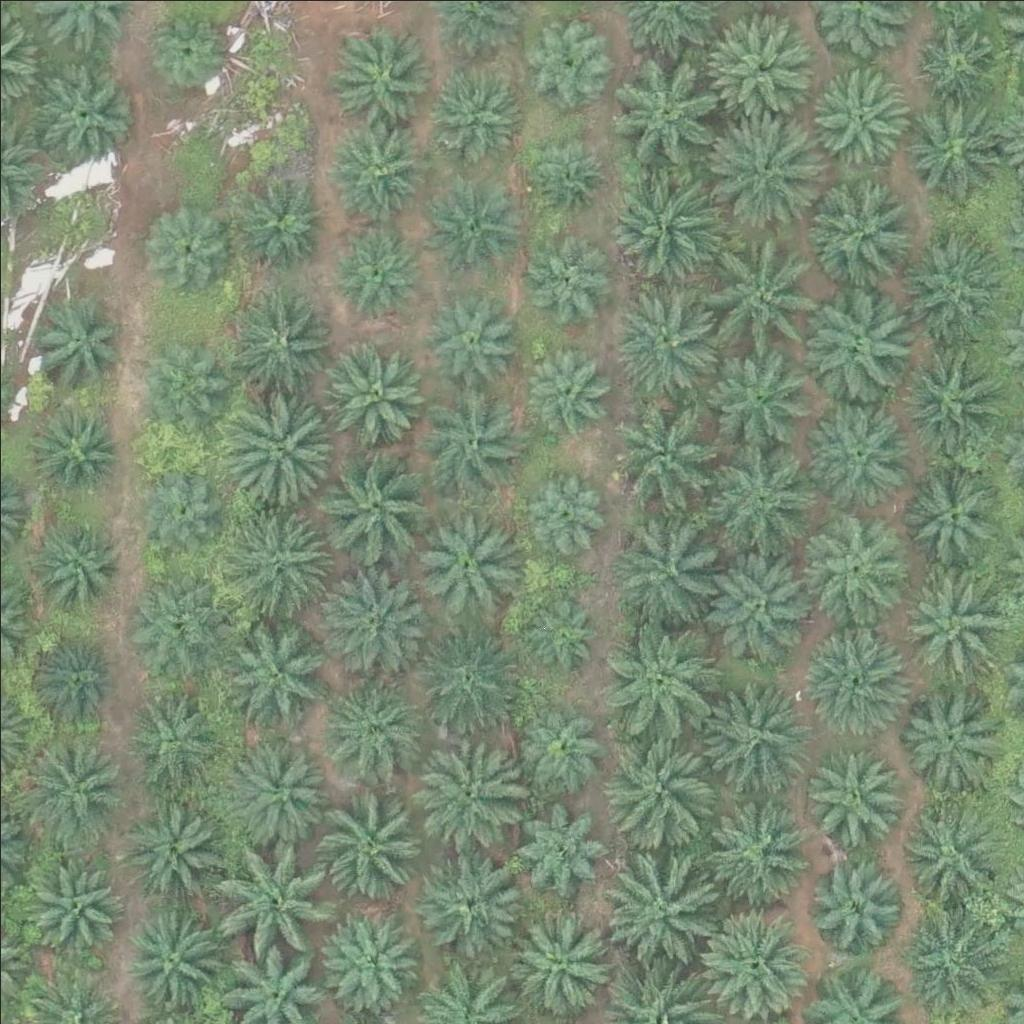Kelapa_Sawit: (703, 105, 816, 219), (415, 839, 528, 953), (697, 682, 810, 796), (605, 284, 718, 397), (609, 165, 722, 278), (616, 49, 729, 162), (809, 280, 922, 393), (222, 734, 335, 847), (218, 617, 331, 730), (225, 501, 338, 614), (312, 787, 425, 900), (598, 728, 711, 841), (704, 547, 817, 660), (697, 793, 810, 906), (798, 621, 911, 734), (892, 559, 1005, 672), (894, 801, 1007, 914), (893, 901, 1006, 1014), (118, 896, 230, 1010), (309, 334, 421, 448), (604, 622, 716, 736), (895, 344, 1007, 458), (223, 274, 335, 387), (704, 11, 816, 124), (697, 236, 809, 349), (812, 175, 924, 288), (894, 227, 1006, 340), (897, 87, 1009, 200), (20, 731, 132, 844), (114, 787, 226, 900), (221, 838, 333, 951), (219, 388, 331, 501), (318, 456, 430, 569), (322, 565, 434, 678), (408, 726, 520, 839), (409, 624, 521, 737), (408, 505, 520, 618), (419, 384, 531, 497), (503, 905, 615, 1018), (602, 845, 714, 958), (613, 513, 725, 626), (608, 403, 720, 516), (706, 348, 818, 461), (707, 439, 819, 552), (699, 909, 811, 1022), (800, 392, 912, 505), (326, 115, 426, 216), (330, 23, 430, 124), (425, 67, 525, 168), (810, 61, 910, 162), (25, 288, 125, 389), (131, 568, 231, 669), (319, 672, 419, 773), (313, 909, 413, 1010), (508, 795, 608, 896), (808, 850, 908, 951), (800, 746, 900, 847), (804, 509, 904, 610), (908, 465, 1008, 566), (897, 682, 997, 783), (30, 62, 130, 162), (418, 294, 518, 394), (423, 165, 523, 265), (26, 851, 126, 951), (121, 683, 221, 783), (144, 199, 232, 287), (332, 232, 420, 320), (520, 22, 608, 110), (917, 16, 1005, 104), (28, 637, 116, 725), (31, 400, 119, 488), (142, 4, 229, 92), (237, 176, 324, 264), (523, 130, 610, 218), (523, 235, 610, 323), (37, 520, 124, 608), (136, 465, 223, 553), (140, 349, 227, 437), (520, 347, 607, 435), (520, 471, 607, 559), (509, 704, 596, 792), (523, 593, 598, 669)
